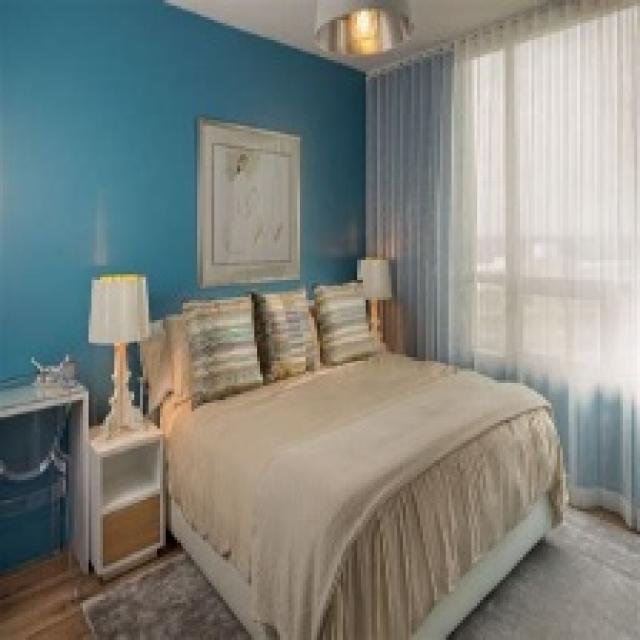Bed: (134, 289, 566, 637)
